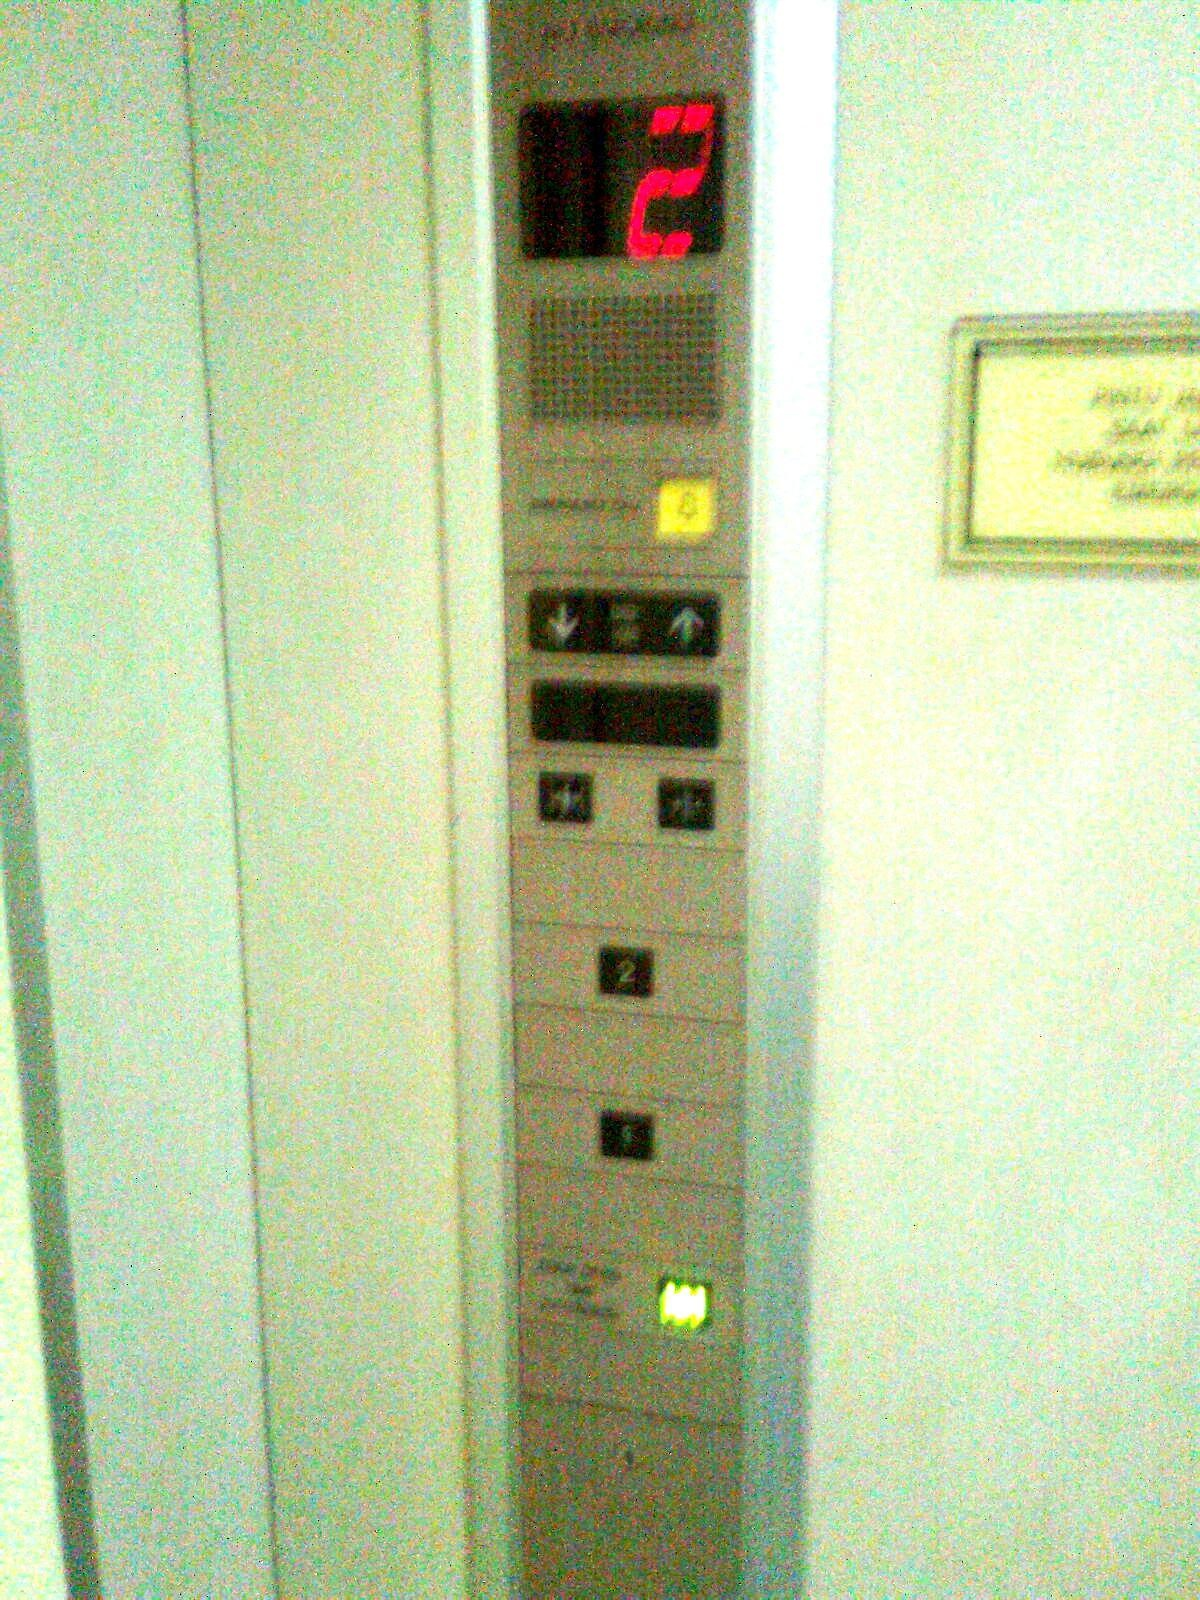2: (597, 946, 655, 998)
alarm: (654, 475, 720, 537)
blur: (658, 776, 717, 831), (537, 770, 594, 826), (654, 1277, 712, 1330), (599, 1109, 655, 1160)
led: (516, 91, 729, 260), (528, 680, 724, 750)
